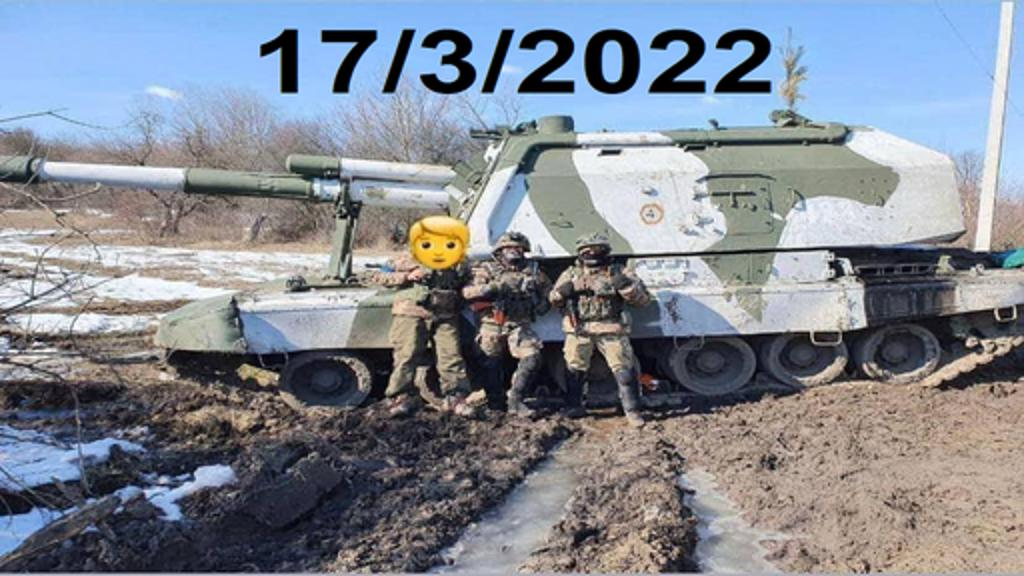ART: (0, 98, 1024, 398)
